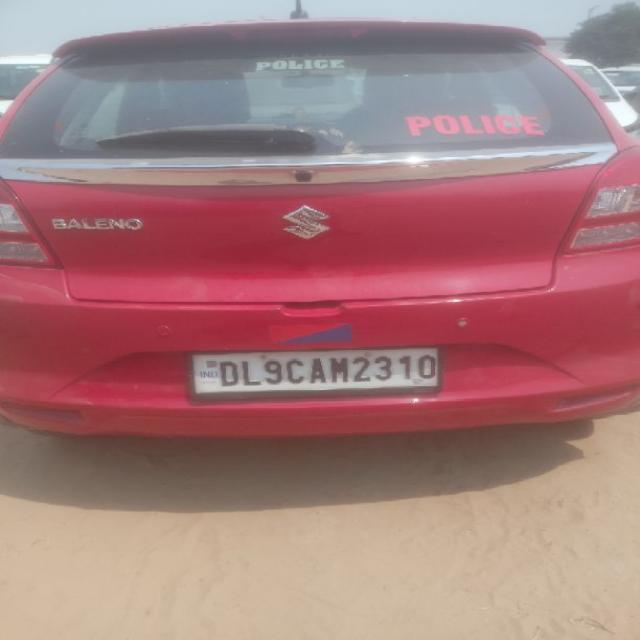license_plate: (186, 345, 444, 400)
